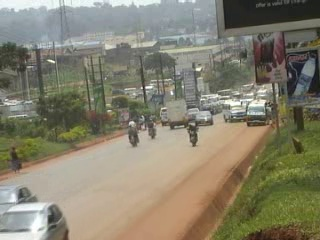Car: (0, 200, 76, 237), (0, 180, 38, 221), (193, 110, 215, 127), (199, 101, 216, 115), (186, 106, 200, 121)
Motorcycle: (186, 121, 201, 148), (126, 124, 141, 147), (146, 116, 158, 138), (127, 117, 139, 135)
